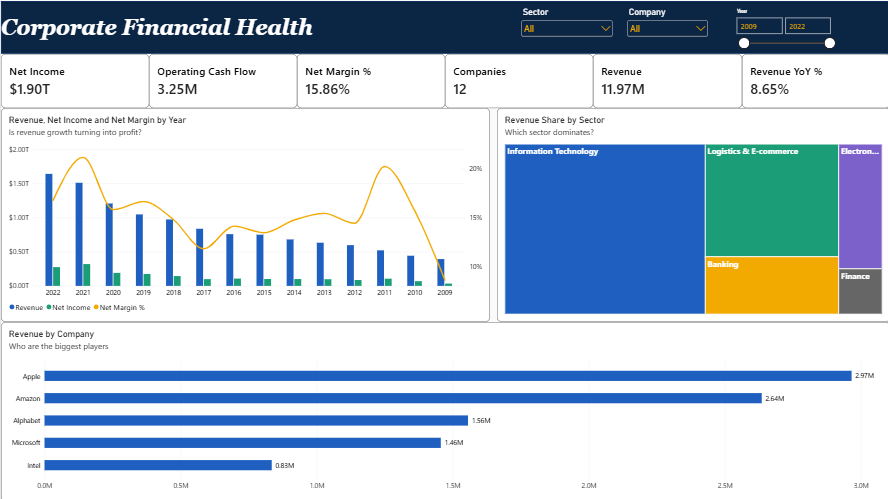

Layout of this report page (visuals, bound fields, positions):
{"tool":"powerbi","page":{"name":"Executive Overview","canvas":[1920,1080],"ordinal":0},"visuals":[{"type":"cardVisual","fields":{"Data":["FactFinancials.Net Income"]},"box":[0,114.5,320,116.6],"z":0},{"type":"cardVisual","fields":{"Data":["FactFinancials.Revenue_"]},"box":[1278.7,114.5,322,116.6],"z":1000},{"type":"cardVisual","fields":{"Data":["FactFinancials.Revenue YoY %"]},"box":[1600.6,114.5,319.7,116.6],"z":2000},{"type":"cardVisual","fields":{"Data":["FactFinancials.Net Margin %"]},"box":[639.4,114.5,320,116.6],"z":3000},{"type":"cardVisual","fields":{"Data":["FactFinancials.Operating Cash Flow"]},"box":[319.7,114.5,320,116.6],"z":4000},{"type":"cardVisual","fields":{"Data":["FactFinancials.Companies"]},"box":[959,114.5,320,116.6],"z":5000},{"type":"clusteredBarChart","title":"Revenue by Company","fields":{"Category":["DimCompany.Company"],"Y":["FactFinancials.Revenue_"]},"box":[0,693.4,1920.2,386.6],"z":6000},{"type":"treemap","title":"Revenue Share by Sector","fields":{"Group":["DimCompany.Sector"],"Values":["FactFinancials.Revenue_"]},"box":[1071.4,231.1,848.9,462.2],"z":7000},{"type":"lineClusteredColumnComboChart","title":"Revenue, Net Income and Net Margin by Year","fields":{"Category":["DimYear.Year"],"Y":["FactFinancials.Revenue_","FactFinancials.Net Income"],"Y2":["FactFinancials.Net Margin %"]},"box":[0,231.1,1056.2,462.2],"z":8000},{"type":"shape","box":[0,0,1920.2,114.5],"z":9000},{"type":"slicer","fields":{"Values":["DimCompany.Sector"]},"box":[1118.9,13,207.4,69.1],"z":10000},{"type":"slicer","fields":{"Values":["DimCompany.Company"]},"box":[1347.8,13,183.6,69.1],"z":11000},{"type":"slicer","fields":{"Values":["DimYear.Year"]},"box":[1581.1,13,224.6,90.7],"z":12000}]}

Visuals, with their boxes in screenshot pixels (x1, y1, x2, y2), scaled from the page's 1920x1080 canvas onto the 888x499 screenshot:
cardVisual - FactFinancials.Net Income: <box>0,53,148,107</box>
cardVisual - FactFinancials.Revenue_: <box>591,53,740,107</box>
cardVisual - FactFinancials.Revenue YoY %: <box>740,53,887,107</box>
cardVisual - FactFinancials.Net Margin %: <box>296,53,444,107</box>
cardVisual - FactFinancials.Operating Cash Flow: <box>148,53,296,107</box>
cardVisual - FactFinancials.Companies: <box>444,53,592,107</box>
"Revenue by Company" clusteredBarChart: <box>0,320,887,498</box>
"Revenue Share by Sector" treemap: <box>496,107,887,320</box>
"Revenue, Net Income and Net Margin by Year" lineClusteredColumnComboChart: <box>0,107,488,320</box>
shape: <box>0,0,887,53</box>
slicer - DimCompany.Sector: <box>517,6,613,38</box>
slicer - DimCompany.Company: <box>623,6,708,38</box>
slicer - DimYear.Year: <box>731,6,835,48</box>
